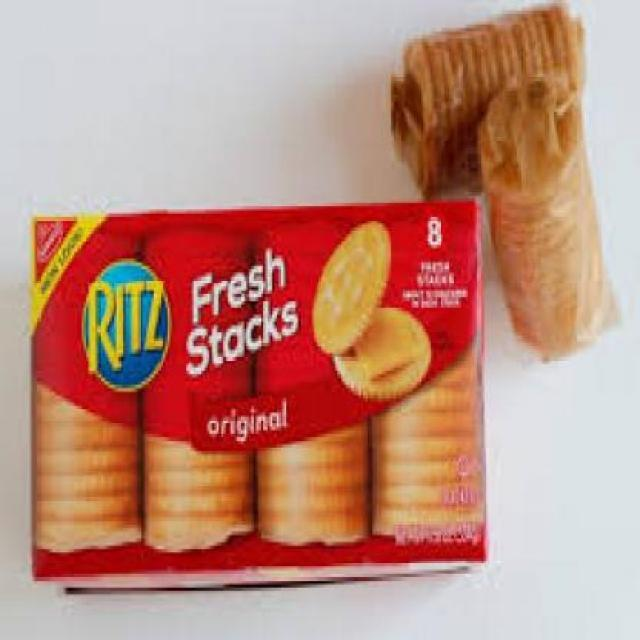Ritz cracker: (18, 196, 496, 595), (379, 4, 624, 364)
